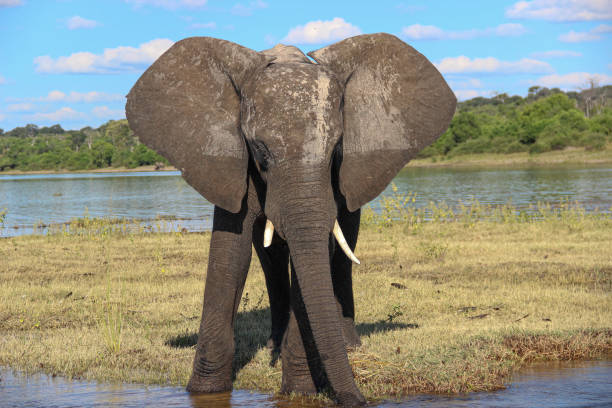africanelephant: (226, 70, 369, 277)
